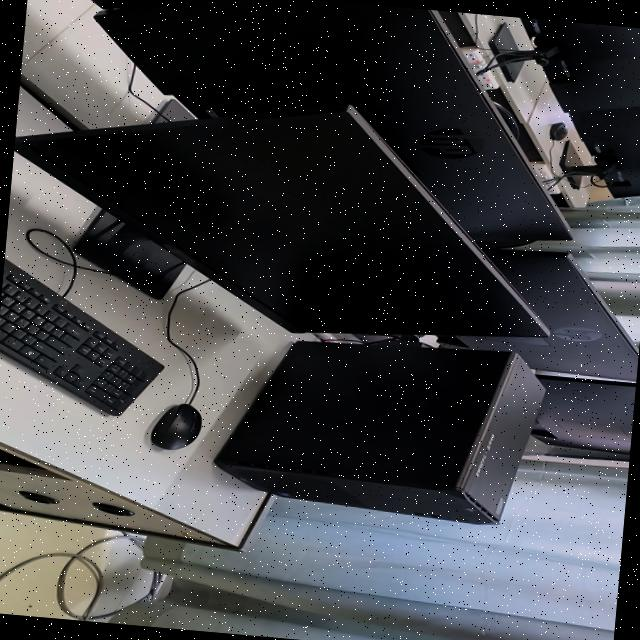Cpu: (215, 340, 545, 523)
Keyboard: (0, 257, 164, 414)
Monitor: (14, 105, 548, 335), (95, 0, 570, 247), (440, 248, 638, 380), (489, 16, 640, 112), (532, 373, 636, 452), (561, 104, 640, 196)
Mouse: (151, 402, 201, 448), (550, 121, 568, 139)
